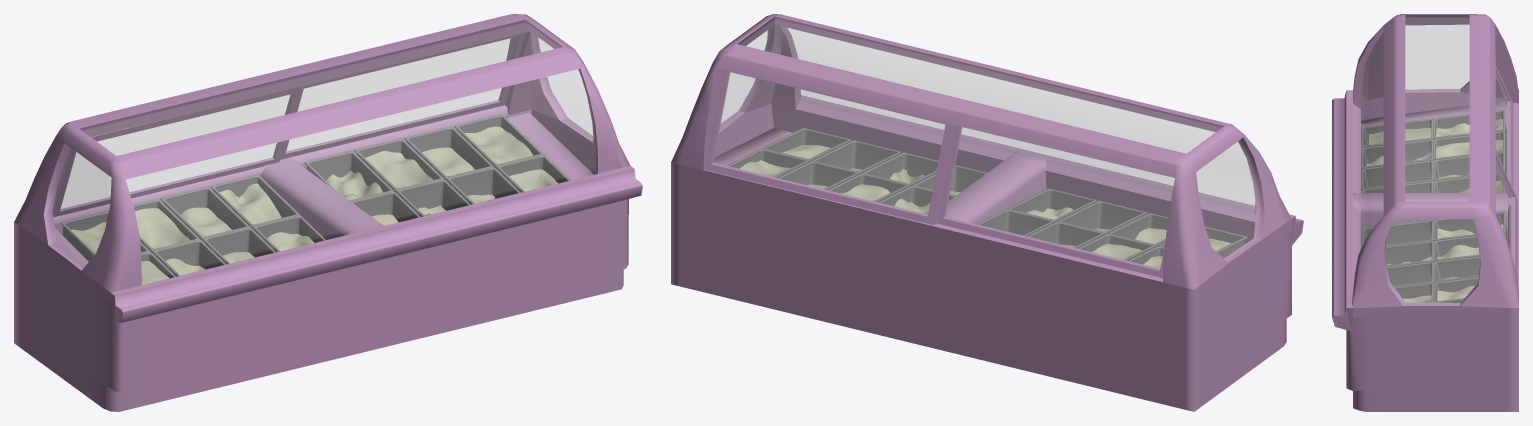
File: Ice_cream_display_case.fbx
The picture shows the model from 3 angles, left to right: view 1: azimuth 30°, elevation 25°; view 2: azimuth 150°, elevation 25°; view 3: azimuth 270°, elevation 25°; orthographic projection. The views are drawn at different scales.
Visible parts, largest first — view 1: case1, front_glass, top_glass, door_glass (×2), door_outer (×2), r_side_glass, pCube18 (×2), pCube22 (×2), pCube21 (×2), pCube10 (×2), pCube19 (×2), pCube23 (×2) (+12 smaller); view 2: case1, door_glass (×2), front_glass, top_glass, door_outer (×2), r_side_glass, pCube22 (×2), pCube23 (×2), pCube18 (×2), pCube21 (×2), pCube19 (×2), pCube17 (×2) (+3 smaller); view 3: case1, top_glass, l_side_glass, front_glass, r_side_glass, pCube22 (×2), pCube21 (×2), door_glass (×2), pCube18 (×2), pCube20 (×2), door_outer (×2), pCube10 (×2) (+9 smaller).
Part boxes in pixels (left/top/right/bottom): case1: left=14, top=14, right=642, bottom=411; front_glass: left=126, top=69, right=594, bottom=280; top_glass: left=83, top=23, right=559, bottom=155; door_glass (×2): left=61, top=37, right=516, bottom=208; door_outer (×2): left=53, top=32, right=525, bottom=217; r_side_glass: left=49, top=147, right=110, bottom=267; pCube18 (×2): left=160, top=126, right=493, bottom=242; pCube22 (×2): left=202, top=166, right=520, bottom=264; pCube21 (×2): left=152, top=179, right=470, bottom=276; pCube10 (×2): left=60, top=150, right=393, bottom=261; pCube19 (×2): left=210, top=114, right=543, bottom=230; pCube23 (×2): left=252, top=154, right=570, bottom=252; case1: left=671, top=14, right=1303, bottom=411; door_glass (×2): left=712, top=72, right=1174, bottom=269; front_glass: left=785, top=28, right=1254, bottom=211; top_glass: left=740, top=19, right=1221, bottom=152; door_outer (×2): left=704, top=70, right=1165, bottom=277; r_side_glass: left=1196, top=141, right=1259, bottom=259; pCube22 (×2): left=812, top=140, right=1147, bottom=235; pCube23 (×2): left=761, top=127, right=1097, bottom=221; pCube18 (×2): left=777, top=161, right=1105, bottom=248; pCube21 (×2): left=862, top=152, right=1168, bottom=248; pCube19 (×2): left=727, top=148, right=1054, bottom=236; pCube17 (×2): left=827, top=173, right=1155, bottom=260; case1: left=1332, top=14, right=1518, bottom=411; top_glass: left=1406, top=17, right=1468, bottom=201; l_side_glass: left=1385, top=220, right=1480, bottom=304; front_glass: left=1360, top=33, right=1382, bottom=249; r_side_glass: left=1406, top=25, right=1468, bottom=90; pCube22 (×2): left=1361, top=160, right=1433, bottom=286; pCube21 (×2): left=1361, top=139, right=1433, bottom=266; door_glass (×2): left=1496, top=75, right=1512, bottom=256; pCube18 (×2): left=1433, top=151, right=1506, bottom=282; pCube20 (×2): left=1361, top=118, right=1433, bottom=247; door_outer (×2): left=1495, top=65, right=1517, bottom=280; pCube10 (×2): left=1433, top=110, right=1507, bottom=242.
Size of the model in its own units: 15.35 by 6.4 by 5.57.
